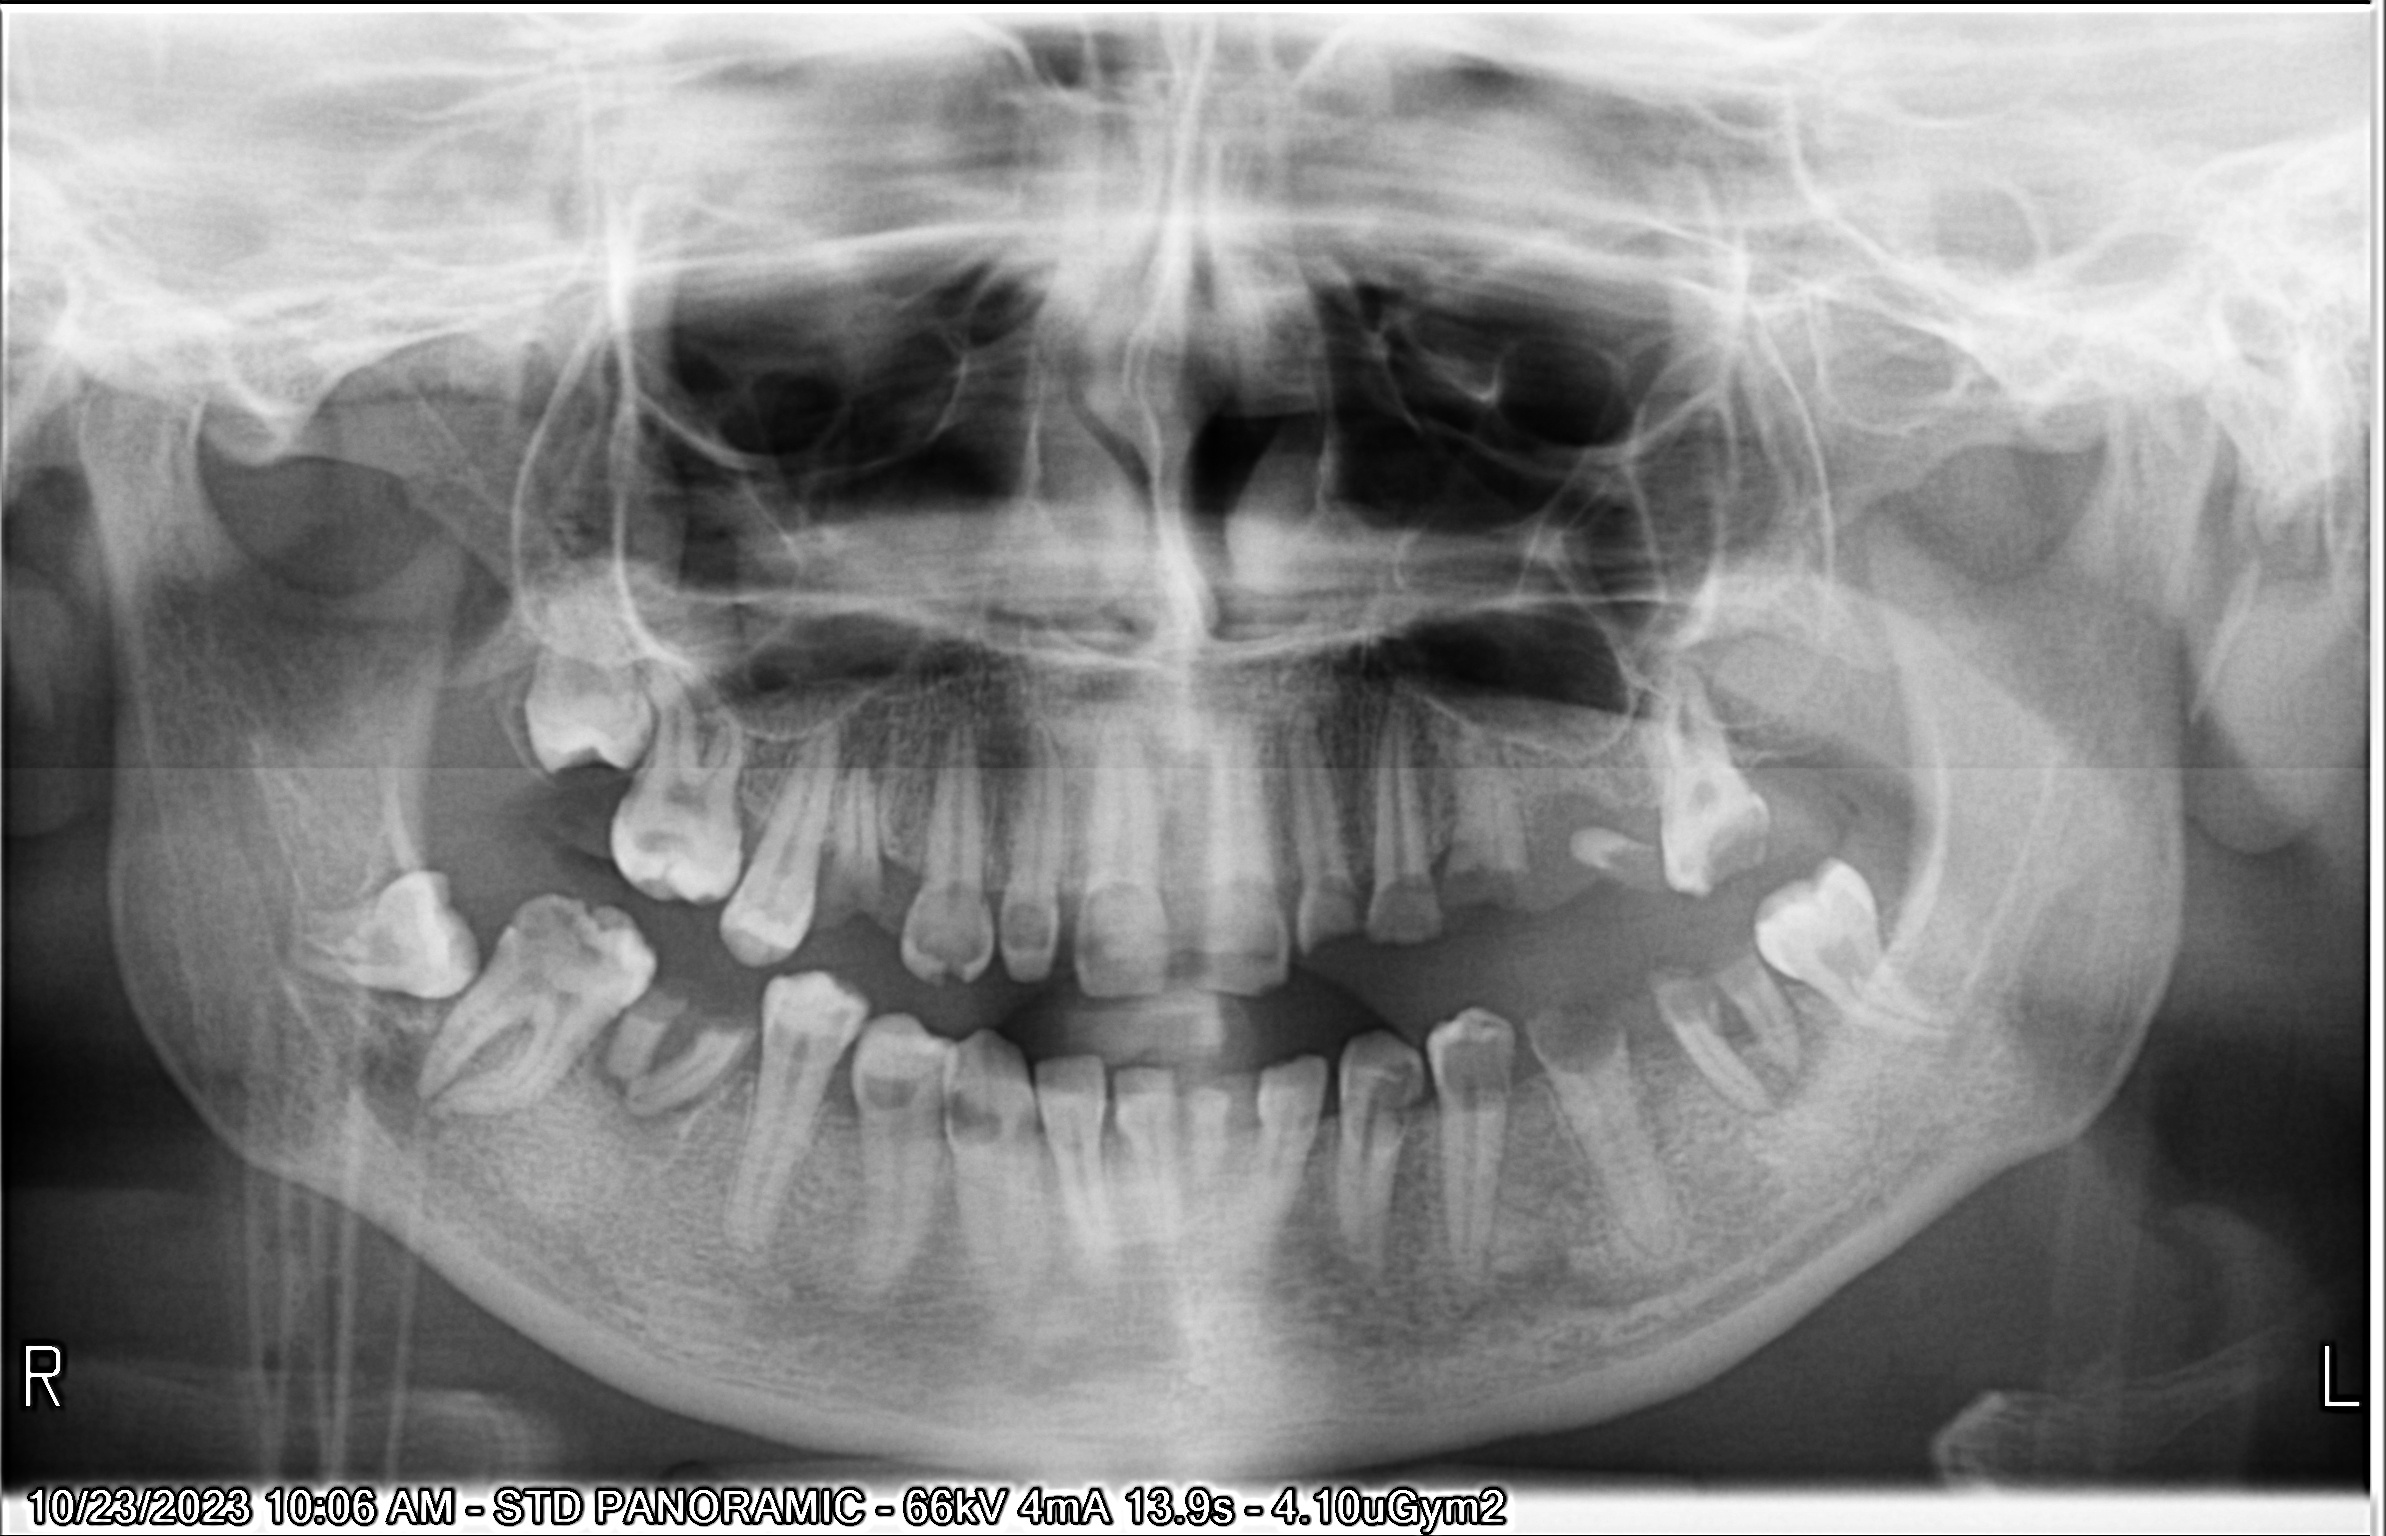API: (346, 1030, 483, 1145), (1725, 1047, 1831, 1131), (821, 692, 899, 788), (600, 1092, 683, 1165), (584, 1051, 642, 1125)
CAR: (483, 899, 650, 988), (1336, 1023, 1419, 1153), (1668, 802, 1784, 882), (1294, 872, 1376, 969), (920, 872, 991, 979), (628, 807, 723, 880), (1442, 1016, 1515, 1112), (1367, 868, 1442, 958), (944, 1072, 1007, 1169), (852, 1058, 929, 1115), (1007, 885, 1057, 971), (993, 1103, 1049, 1150)
IMT: (487, 588, 680, 793), (292, 854, 501, 1037)
ROT: (1428, 715, 1569, 912), (1616, 955, 1758, 1110), (630, 1011, 762, 1129), (1560, 804, 1683, 918), (567, 985, 692, 1087), (1720, 946, 1817, 1075), (819, 757, 885, 927)
